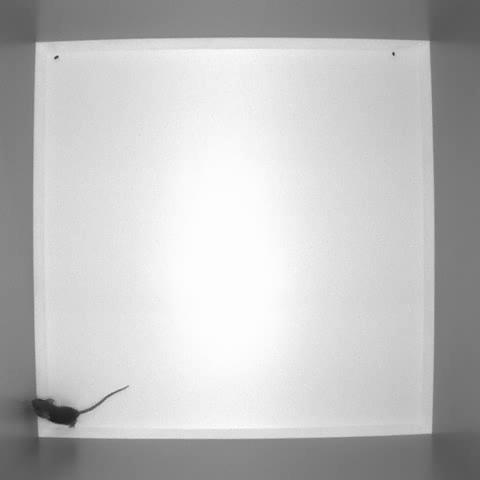rat: (31, 384, 129, 430)
